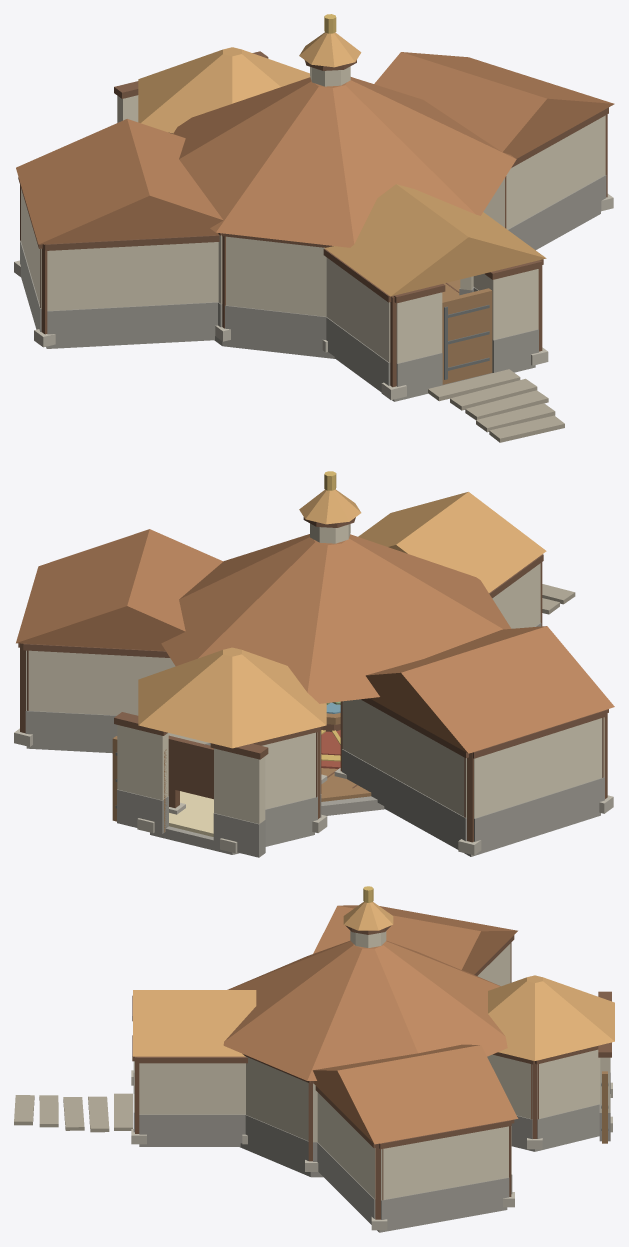
Rendered from holm_guide_hall_v3.glb.
The picture shows the model from 3 angles, top to bottom: view 1: azimuth 30°, elevation 25°; view 2: azimuth 150°, elevation 25°; view 3: azimuth 270°, elevation 25°; orthographic projection. The views are drawn at different scales.
Visible parts, largest first — view 1: Roof_Russet_Roof, Static_Warm_Plaster, Roof_Roof_Highlight, Static_Stone, Static_Dark_Timber, Static_Path_Stone, front_door_Furnishing_Wood, Static_Stone_Light, front_door_Iron, Roof_Warm_Plaster; view 2: Roof_Russet_Roof, Static_Warm_Plaster, Roof_Roof_Highlight, Static_Stone, Static_Dark_Timber, Static_Stone_Light, Static_Parchment, Static_Furnishing_Wood, Static_Path_Stone, Roof_Warm_Plaster, teaching_door_Furnishing_Wood, Static_Compass_Red; view 3: Roof_Russet_Roof, Static_Warm_Plaster, Roof_Roof_Highlight, Static_Stone, Static_Dark_Timber, Static_Path_Stone, Static_Stone_Light, Roof_Warm_Plaster.
Boxes of the visible parts, left/top/right/bottom form: Roof_Russet_Roof: left=16, top=52, right=614, bottom=247; Static_Warm_Plaster: left=21, top=95, right=605, bottom=363; Roof_Roof_Highlight: left=138, top=32, right=546, bottom=296; Static_Stone: left=20, top=175, right=606, bottom=401; Static_Dark_Timber: left=18, top=51, right=608, bottom=387; Static_Path_Stone: left=428, top=369, right=564, bottom=442; front_door_Furnishing_Wood: left=442, top=288, right=492, bottom=384; Static_Stone_Light: left=14, top=194, right=613, bottom=400; front_door_Iron: left=444, top=305, right=489, bottom=379; Roof_Warm_Plaster: left=310, top=66, right=350, bottom=86; Roof_Russet_Roof: left=16, top=529, right=614, bottom=753; Static_Warm_Plaster: left=26, top=563, right=604, bottom=823; Roof_Roof_Highlight: left=138, top=489, right=546, bottom=748; Static_Stone: left=25, top=622, right=604, bottom=857; Static_Dark_Timber: left=18, top=554, right=608, bottom=842; Static_Stone_Light: left=14, top=728, right=613, bottom=855; Static_Parchment: left=169, top=791, right=213, bottom=836; Static_Furnishing_Wood: left=321, top=768, right=371, bottom=801; Static_Path_Stone: left=542, top=584, right=575, bottom=614; Roof_Warm_Plaster: left=310, top=523, right=350, bottom=543; teaching_door_Furnishing_Wood: left=112, top=736, right=166, bottom=832; Static_Compass_Red: left=321, top=730, right=340, bottom=768; Roof_Russet_Roof: left=223, top=905, right=518, bottom=1144; Static_Warm_Plaster: left=134, top=942, right=609, bottom=1200; Roof_Roof_Highlight: left=133, top=902, right=614, bottom=1060; Static_Stone: left=133, top=1057, right=610, bottom=1232; Static_Dark_Timber: left=132, top=935, right=611, bottom=1219; Static_Path_Stone: left=14, top=1093, right=132, bottom=1132; Static_Stone_Light: left=131, top=1070, right=612, bottom=1230; Roof_Warm_Plaster: left=350, top=931, right=386, bottom=947.
Bounding box in the file's own units: 17.35 × 7.77 × 18.41.
